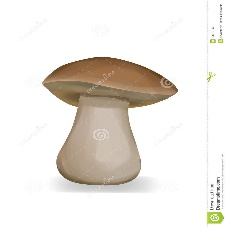mushroom: (41, 52, 177, 192)
